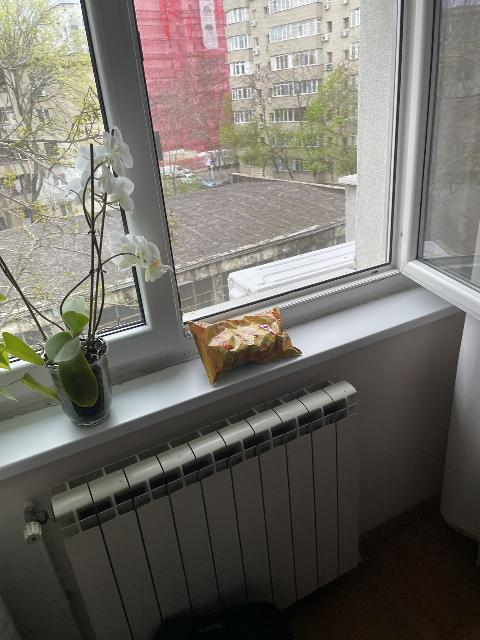Chio Hula Hoops Cheese 70g: (188, 305, 304, 383)
